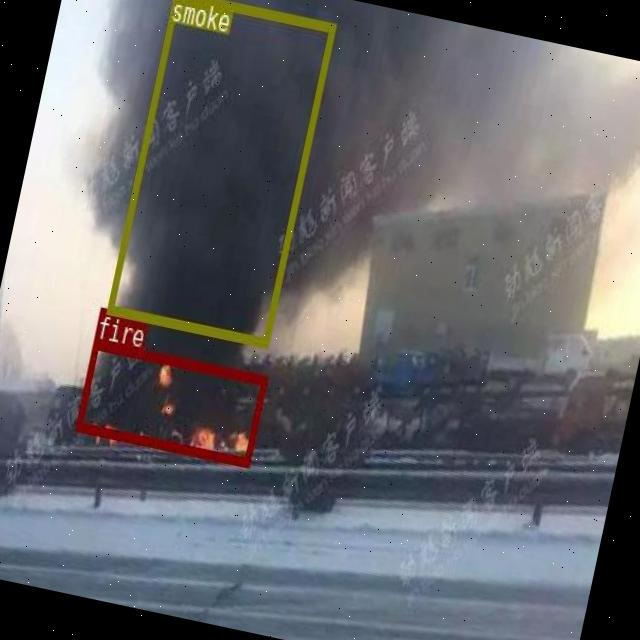fire: (75, 337, 266, 465)
smoke: (106, 0, 335, 345)
